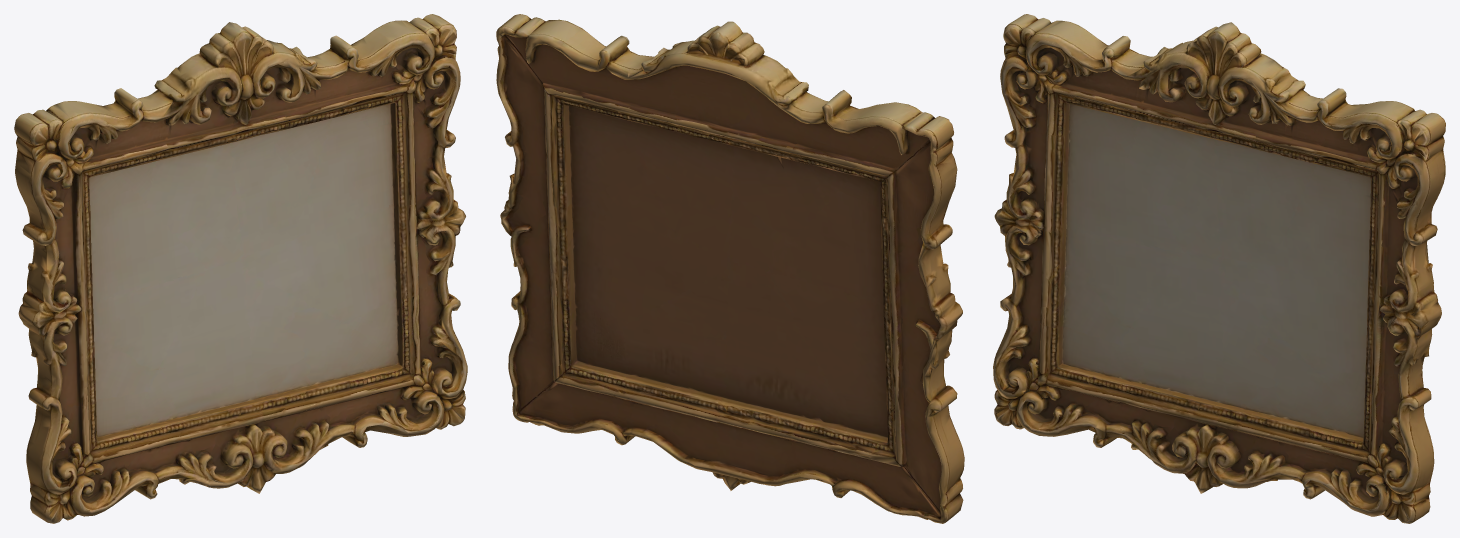
File: study_frame_a_v1.glb
3 views of the same model, side by side, from view 1: azimuth 30°, elevation 25°; view 2: azimuth 150°, elevation 25°; view 3: azimuth 330°, elevation 25° (orthographic). The views are drawn at different scales.
Parts seen in each view (by area): view 1: tripo_node_68643430-0a78-47a8-a856-ca93755a7c08; view 2: tripo_node_68643430-0a78-47a8-a856-ca93755a7c08; view 3: tripo_node_68643430-0a78-47a8-a856-ca93755a7c08.
Boxes of the visible parts, left/top/right/bottom form: tripo_node_68643430-0a78-47a8-a856-ca93755a7c08: left=14, top=14, right=467, bottom=523; tripo_node_68643430-0a78-47a8-a856-ca93755a7c08: left=496, top=14, right=964, bottom=523; tripo_node_68643430-0a78-47a8-a856-ca93755a7c08: left=993, top=14, right=1445, bottom=523.
Size of the model in its own units: 0.9789 by 0.9781 by 0.1448.
1 material, 1 textured.
